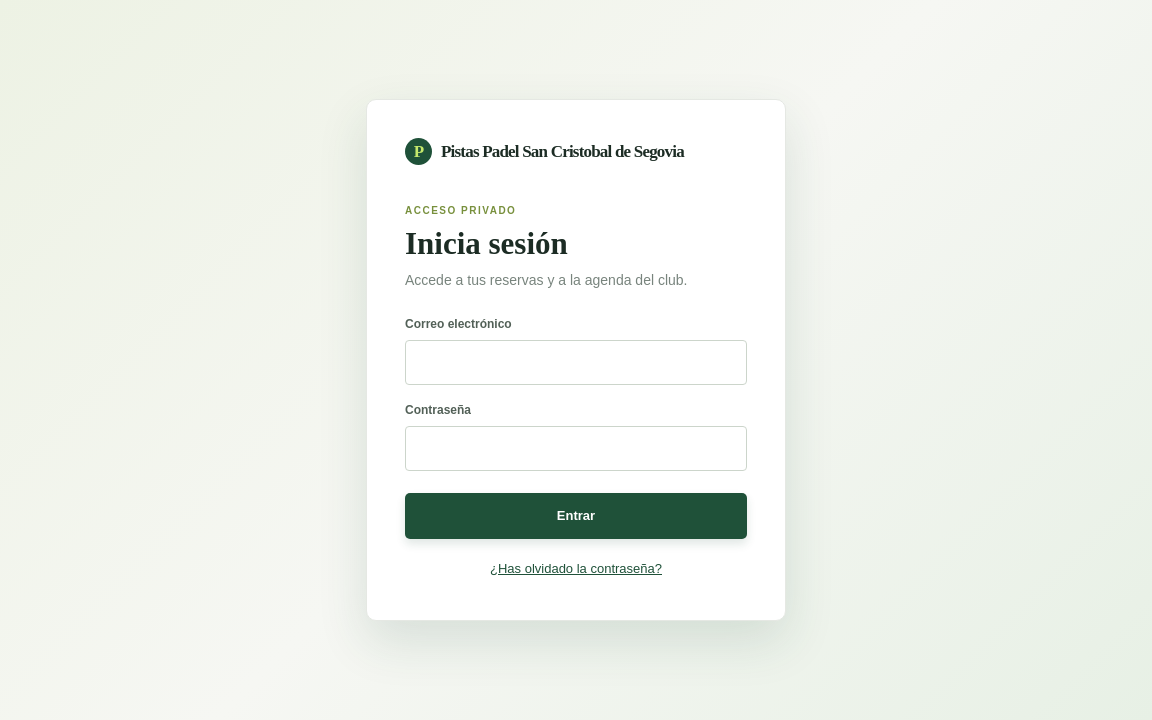
Test case: Home › muestra el error del login cuando la API rechaza las credenciales
Step 1. Type "maria@example.test" into the field labelled "Correo electrónico" → (576, 362), box [405, 340, 747, 385]
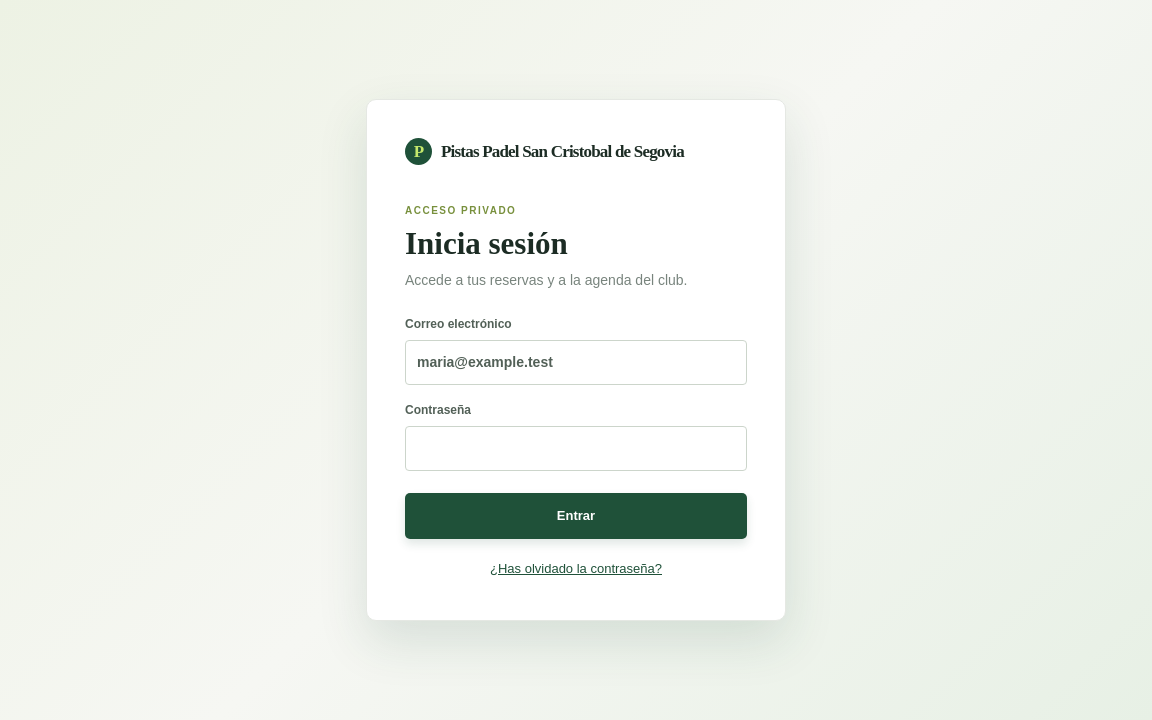
Step 2. Type "incorrecta" into the password field labelled "Contraseña" → (576, 448), box [405, 426, 747, 471]
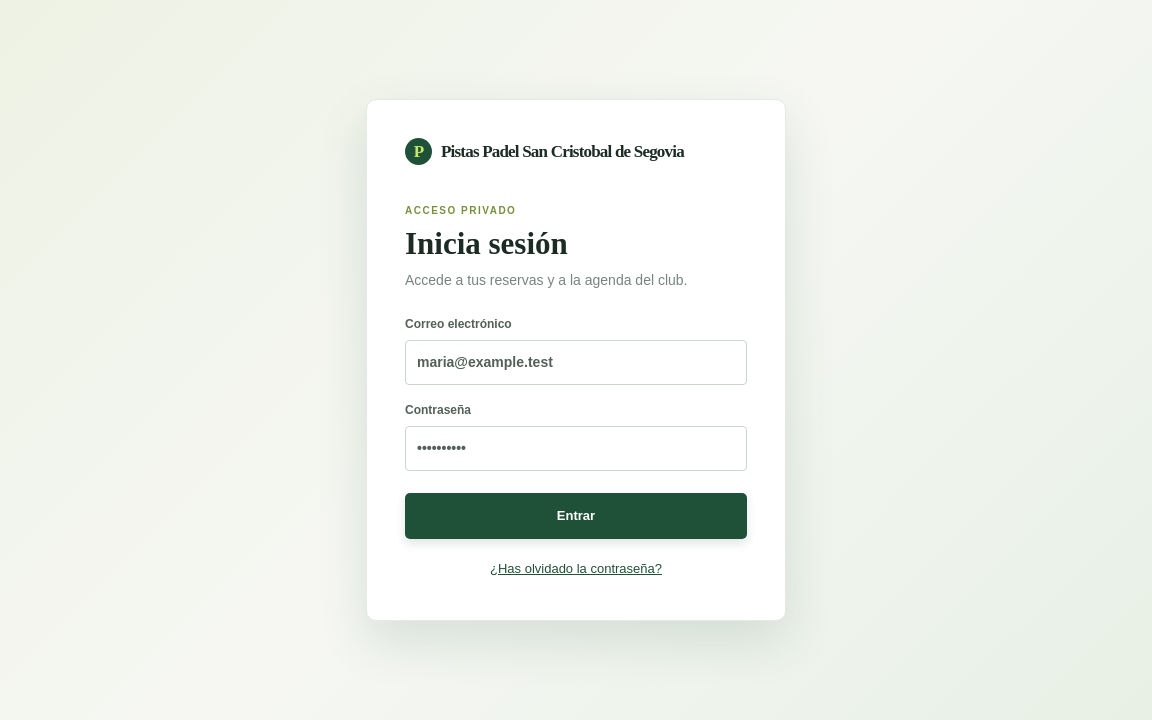
Step 3. Submit the form "Entrar", box [405, 315, 747, 582]
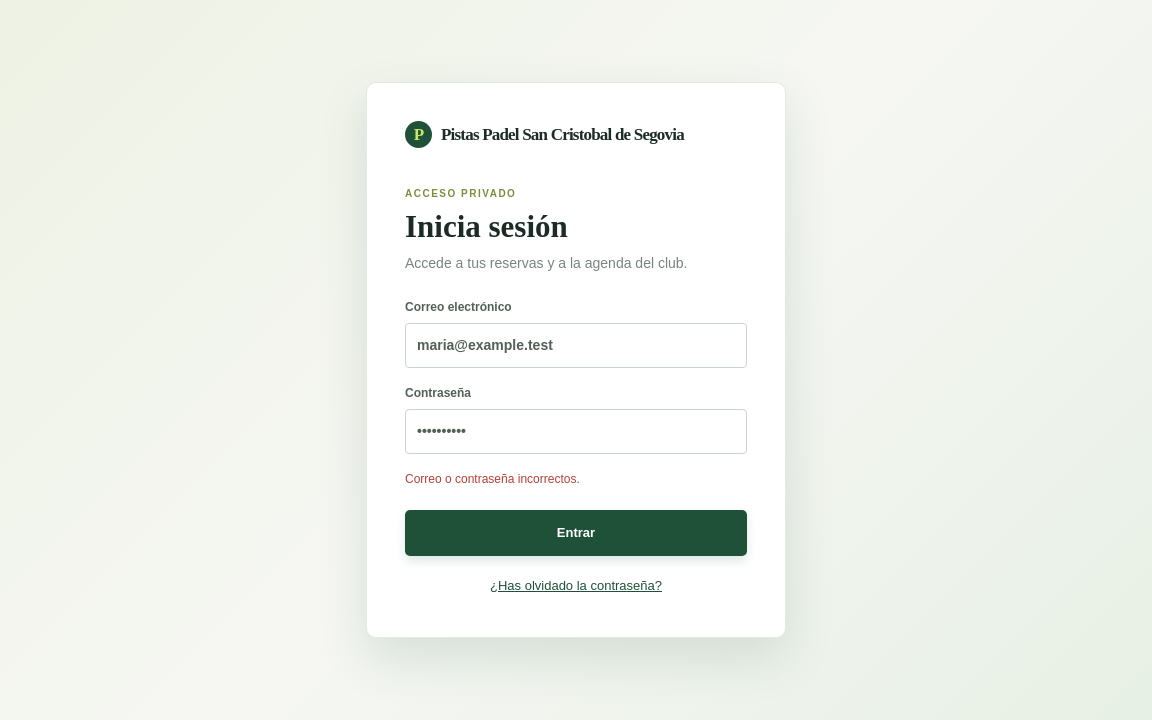
Now the text "Correo o contraseña incorrectos." is shown, box [405, 472, 580, 486]
